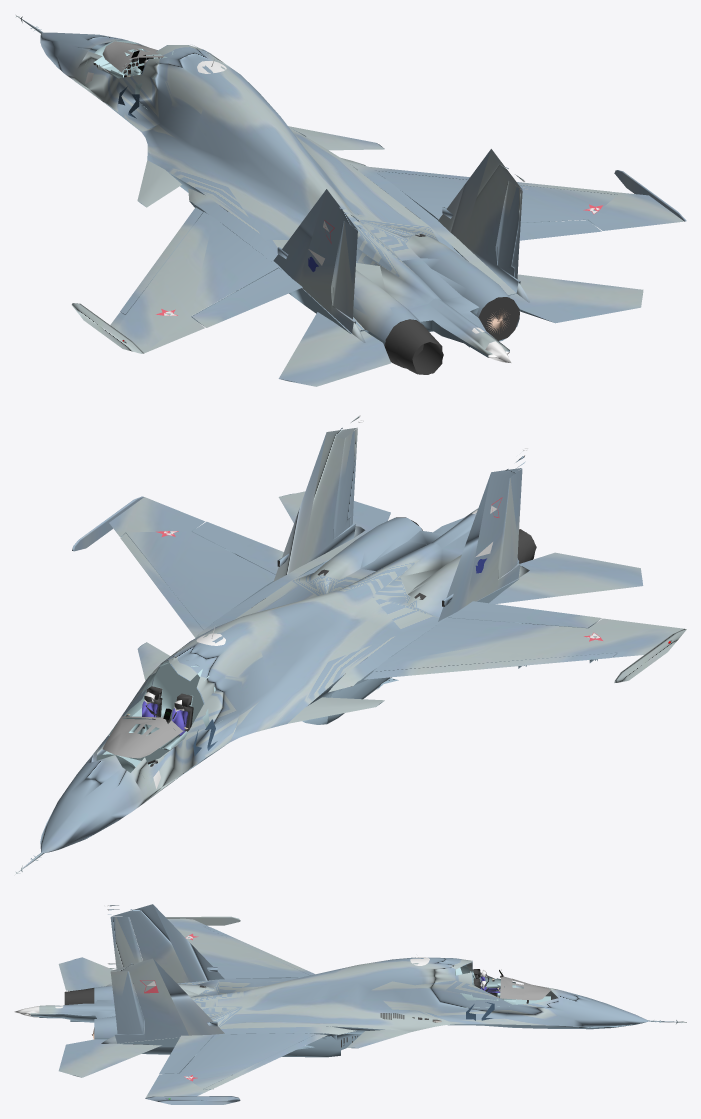
The picture shows the model from 3 angles, top to bottom: view 1: azimuth 30°, elevation 25°; view 2: azimuth 150°, elevation 25°; view 3: azimuth 270°, elevation 25°; orthographic projection. The views are drawn at different scales.
Parts seen in each view (by area): view 1: body|o_24-FACES, body|o905-FACES, body|o836_7-FACES, body|o1380-FACES, body|o1436-FACES, body|o1688-FACES; view 2: body|o_24-FACES, body|o1436-FACES, body|o1380-FACES, body|o836_7-FACES, body|o905-FACES; view 3: body|o_24-FACES, body|o836_7-FACES, body|o905-FACES, body|o1380-FACES, body|o1436-FACES, body|o1688-FACES.
Part boxes in pixels (x1=…): body|o_24-FACES: x1=15, y1=15, x2=686, y2=386; body|o905-FACES: x1=96, y1=58, x2=519, y2=374; body|o836_7-FACES: x1=54, y1=45, x2=617, y2=384; body|o1380-FACES: x1=102, y1=41, x2=164, y2=72; body|o1436-FACES: x1=94, y1=40, x2=197, y2=108; body|o1688-FACES: x1=197, y1=59, x2=511, y2=362; body|o_24-FACES: x1=15, y1=416, x2=686, y2=874; body|o1436-FACES: x1=96, y1=659, x2=222, y2=772; body|o1380-FACES: x1=102, y1=716, x2=183, y2=758; body|o836_7-FACES: x1=44, y1=493, x2=617, y2=853; body|o905-FACES: x1=126, y1=517, x2=536, y2=764; body|o_24-FACES: x1=30, y1=904, x2=686, y2=1104; body|o836_7-FACES: x1=30, y1=926, x2=641, y2=1089; body|o905-FACES: x1=64, y1=969, x2=528, y2=1047; body|o1380-FACES: x1=500, y1=976, x2=550, y2=1000; body|o1436-FACES: x1=455, y1=958, x2=550, y2=1007; body|o1688-FACES: x1=14, y1=957, x2=429, y2=1017.
Size of the model in its own units: 14.6 by 4.13 by 22.97.
Materials: 47 (18 with a texture image).
